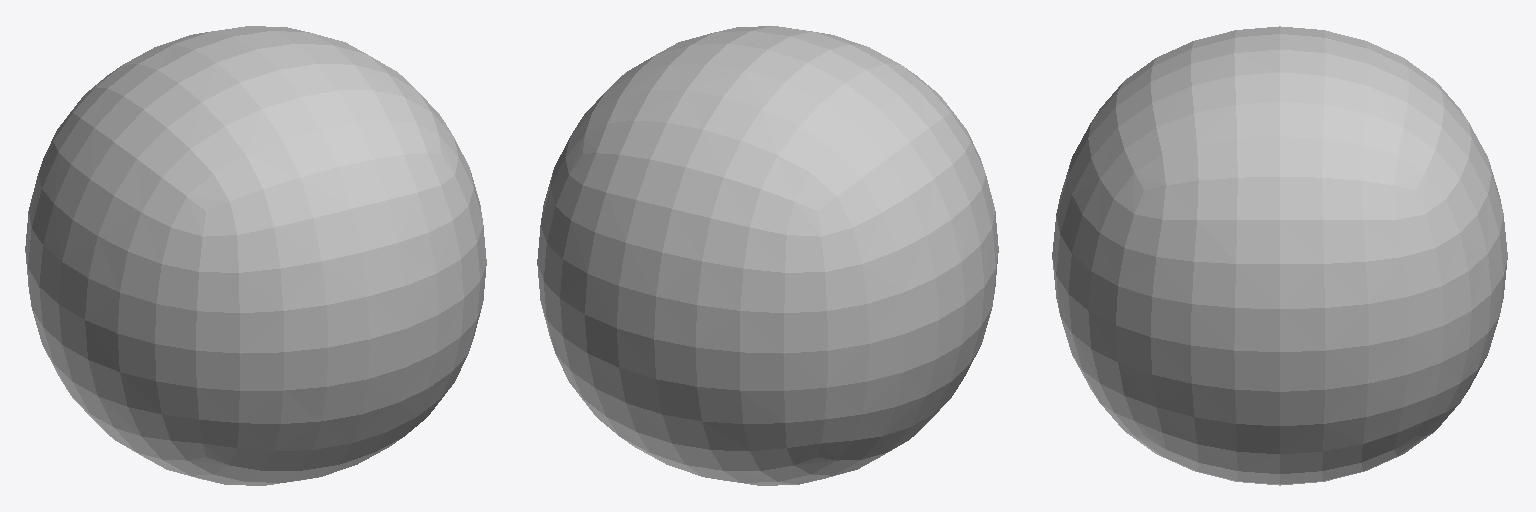
File: CubedSphere.obj
3 views of the same model, side by side, from view 1: azimuth 30°, elevation 25°; view 2: azimuth 150°, elevation 25°; view 3: azimuth 270°, elevation 25° (orthographic).
Size of the model in its own units: 0.723 by 0.723 by 0.723.